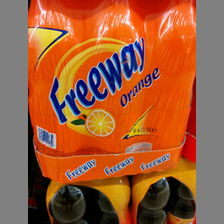soda: (28, 1, 195, 184)
